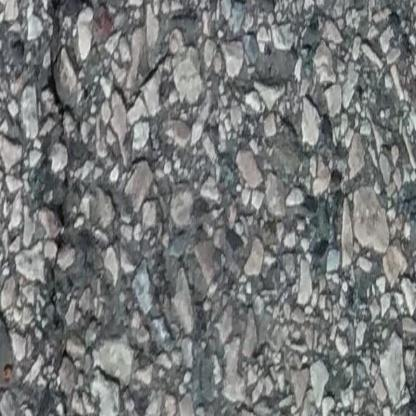Cracks: (46, 0, 108, 306)
